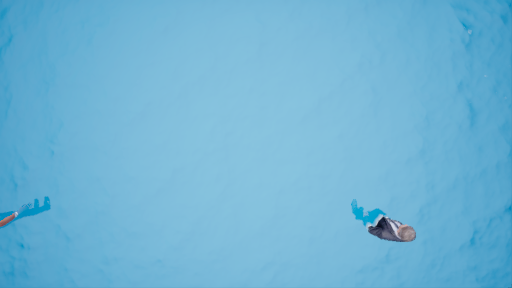person: (352, 197, 427, 247)
